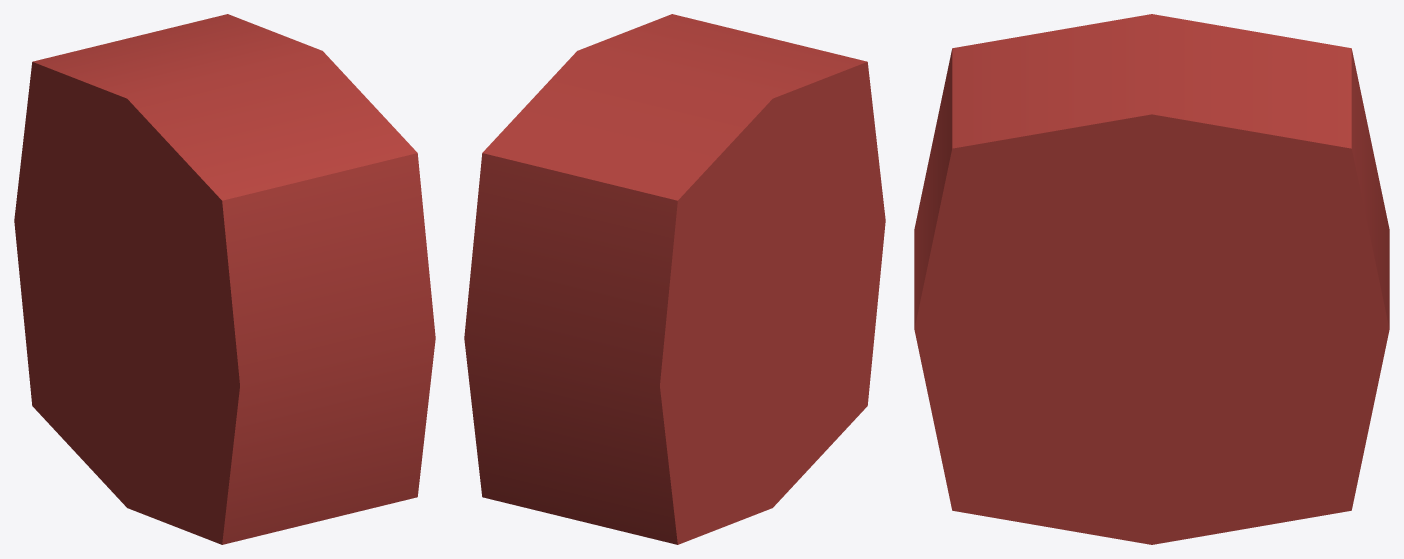
File: spar_beam_lod2.glb
The picture shows the model from 3 angles, left to right: view 1: azimuth 30°, elevation 25°; view 2: azimuth 150°, elevation 25°; view 3: azimuth 270°, elevation 25°; orthographic projection. The views are drawn at different scales.
Visible parts, largest first — view 1: spar_beam_lod2; view 2: spar_beam_lod2; view 3: spar_beam_lod2.
Boxes of the visible parts, box(x1,y1,x2,y2) form: spar_beam_lod2: box(14, 14, 435, 544); spar_beam_lod2: box(464, 14, 885, 544); spar_beam_lod2: box(914, 14, 1389, 544).
Bounding box in the file's own units: 1 × 2 × 2.
